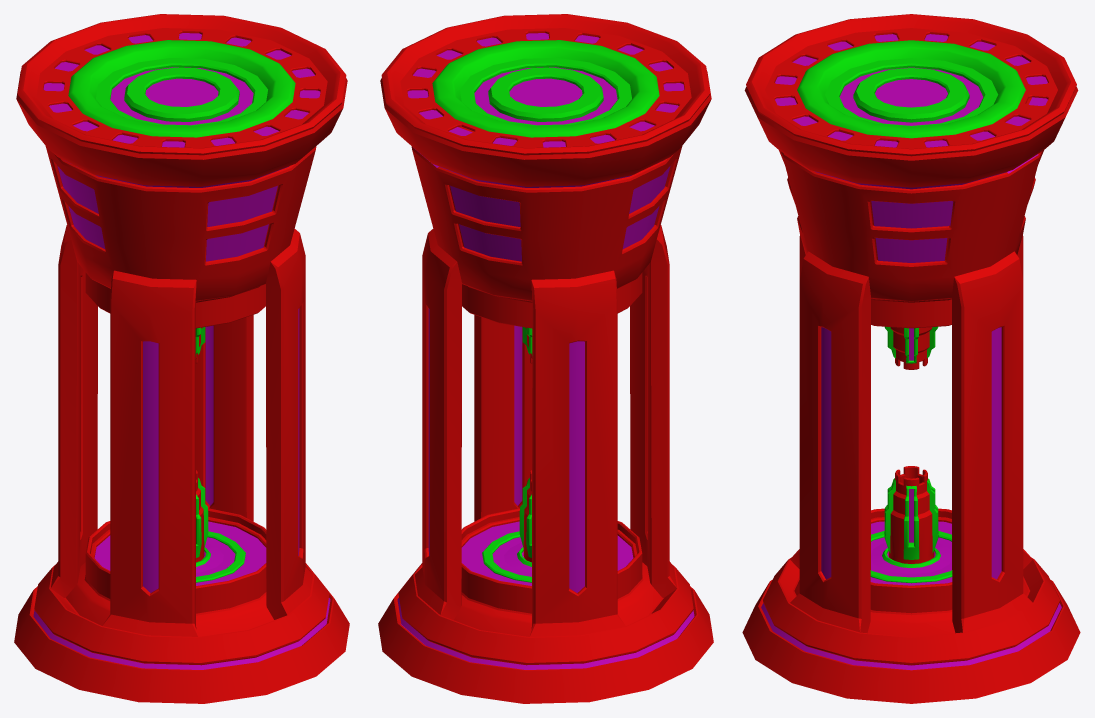
Rendered from MePiedestal_V1.FBX.
3 views of the same model, side by side, from view 1: azimuth 30°, elevation 25°; view 2: azimuth 150°, elevation 25°; view 3: azimuth 270°, elevation 25° (orthographic).
Parts seen in each view (by area): view 1: Piedestal; view 2: Piedestal; view 3: Piedestal.
Part boxes in pixels (bbox=[...]): Piedestal: bbox=[14, 14, 349, 703]; Piedestal: bbox=[378, 14, 713, 703]; Piedestal: bbox=[742, 14, 1080, 703].
Size of the model in its own units: 57.45 by 103 by 57.45.
